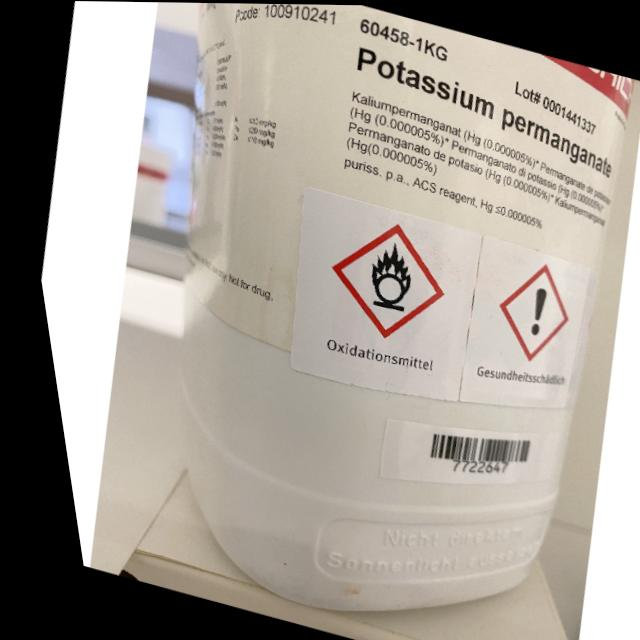health-ozone layer hazard: (468, 249, 579, 371)
oxidising: (299, 204, 457, 352)
